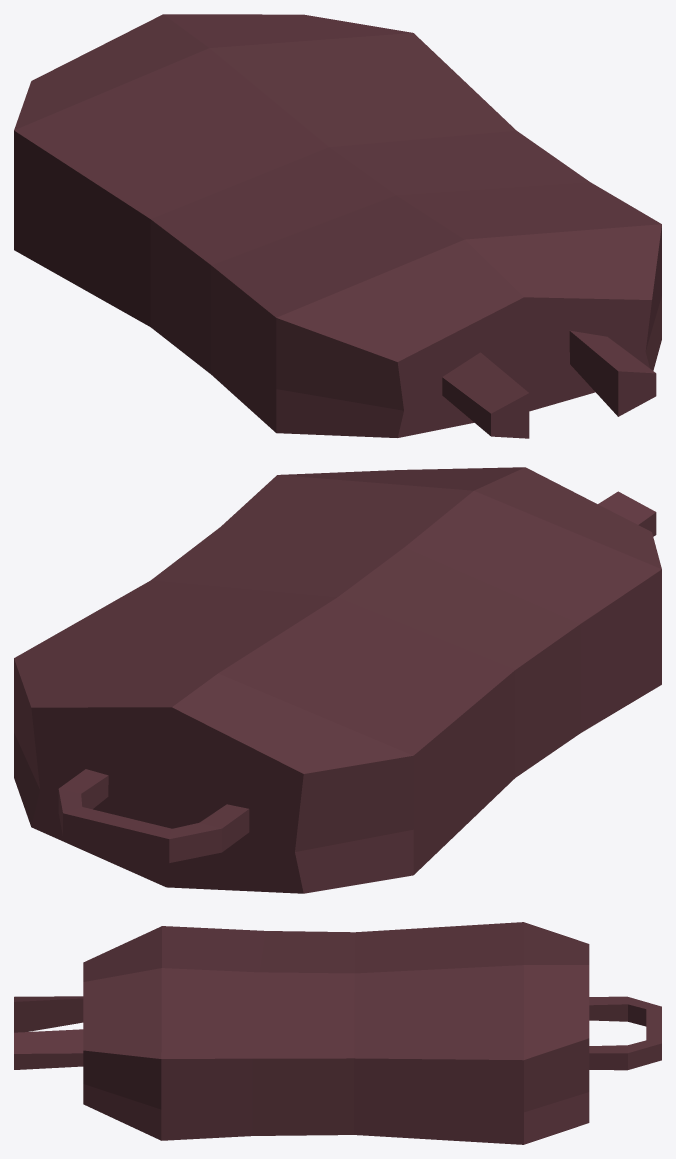
The model's file is apocalypse-water-bag.glb.
3 renders of one model, top to bottom at view 1: azimuth 30°, elevation 25°; view 2: azimuth 150°, elevation 25°; view 3: azimuth 270°, elevation 25°, orthographic. The views are drawn at different scales.
Visible parts, largest first — view 1: water-bag; view 2: water-bag; view 3: water-bag.
Boxes of the visible parts, box(x1,y1,x2,y2) form: water-bag: box(14, 14, 661, 438); water-bag: box(14, 467, 661, 893); water-bag: box(14, 922, 661, 1144).
Size of the model in its own units: 0.1303 by 0.0566 by 0.2584.
